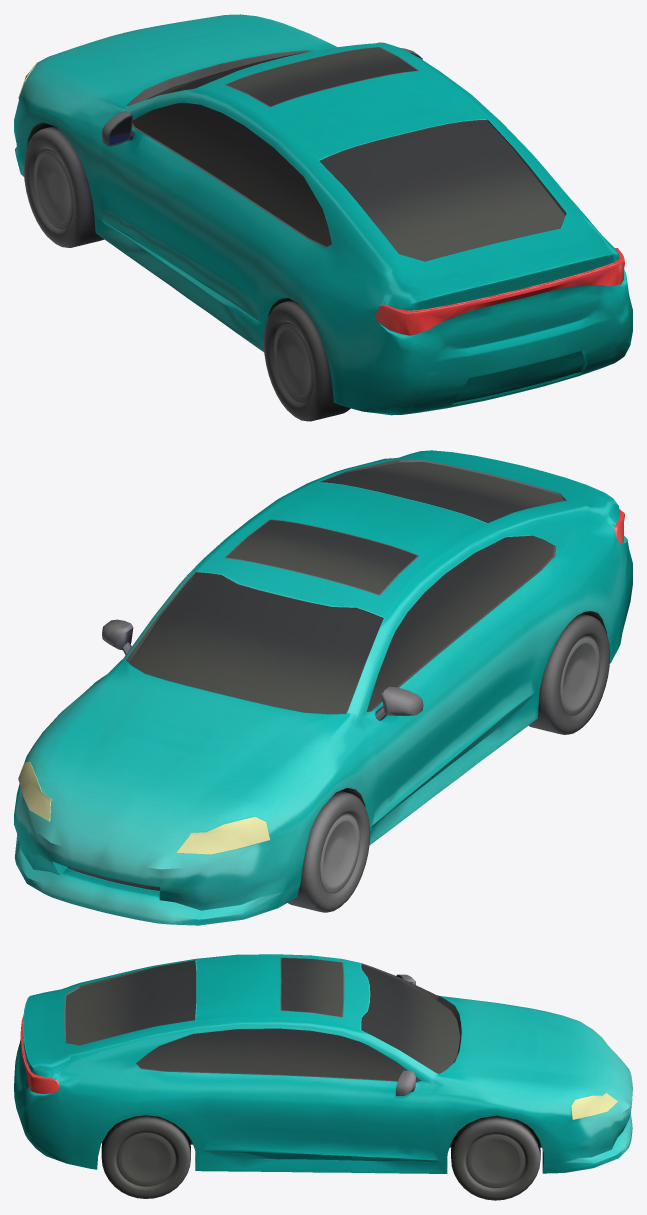
File: night_DARK_THEME_CAR_MODEL.glb
The picture shows the model from 3 angles, top to bottom: view 1: azimuth 30°, elevation 25°; view 2: azimuth 150°, elevation 25°; view 3: azimuth 270°, elevation 25°; orthographic projection. The views are drawn at different scales.
Visible parts, largest first — view 1: Symmetry.1; view 2: Symmetry.1; view 3: Symmetry.1.
Boxes of the visible parts, x1=… form: Symmetry.1: x1=14, y1=14, x2=632, y2=421; Symmetry.1: x1=14, y1=450, x2=632, y2=925; Symmetry.1: x1=14, y1=954, x2=632, y2=1200.
Size of the model in its own units: 5.12 by 3.61 by 11.93.
Materials: 1 (1 with a texture image).
